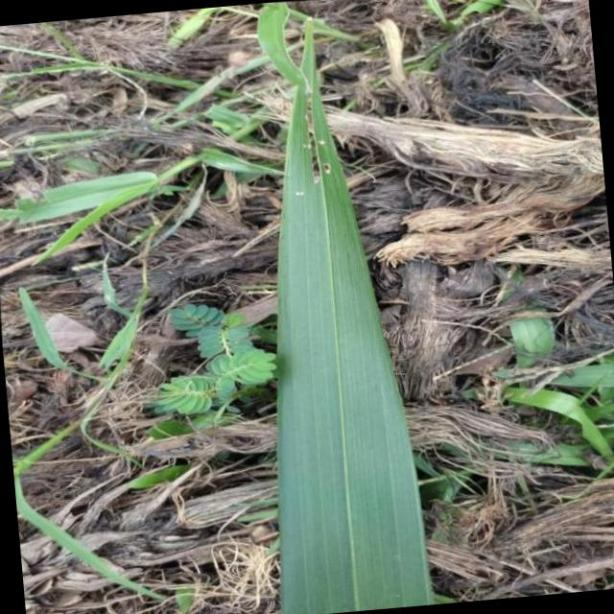Boron: (272, 6, 433, 614)
